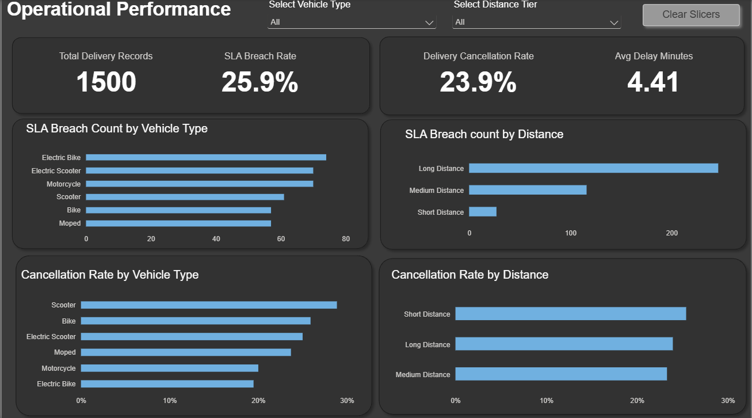

What the dashboard file says about the page in this screenshot:
{"tool":"powerbi","page":{"name":"Operational Performance","canvas":[1280,720],"ordinal":2},"visuals":[{"type":"group","id":"g1","title":"background","box":[8.4,55,1271.6,665.2],"z":0},{"type":"shape","box":[8.4,56.7,628.6,148.4],"z":0,"group":"g1"},{"type":"textbox","box":[8.6,0,402.5,44.2],"z":1000},{"type":"shape","box":[637,195.5,643,240.1],"z":1000,"group":"g1"},{"type":"cardVisual","fields":{"Data":["_Measures.Total Deliveries"]},"box":[59.1,82,238.9,96.5],"z":2000},{"type":"shape","box":[8.4,194.9,626.1,240.1],"z":2000,"group":"g1"},{"type":"shape","box":[635.2,55,640.6,152],"z":3000,"group":"g1"},{"type":"cardVisual","fields":{"Data":["_Measures.Avg Delay Minutes"]},"box":[978.4,76,270.2,109.8],"z":3000},{"type":"cardVisual","fields":{"Data":["_Measures.SLA Breach Rate"]},"box":[349.9,82,183.4,96.5],"z":4000},{"type":"shape","box":[634.5,433.2,645.4,284.7],"z":4000,"group":"g1"},{"type":"cardVisual","fields":{"Data":["_Measures.Delivery Cancellation Rate"]},"box":[685.3,82,258,96.6],"z":5000},{"type":"shape","box":[14.4,428.3,626.1,292],"z":5000,"group":"g1"},{"type":"clusteredBarChart","title":"SLA Breach Count by Vehicle Type","fields":{"Category":["deliveries_fact.vehicle_type"],"Y":["_Measures.Breached Deliveries"]},"box":[25.8,195.1,584.1,240.5],"z":6000},{"type":"clusteredBarChart","title":"SLA Breach count by Distance ","fields":{"Category":["deliveries_fact.distance_tier"],"Y":["_Measures.Breached Deliveries"]},"box":[672,205.1,583.9,220.8],"z":7000},{"type":"clusteredBarChart","title":"Cancellation Rate by Vehicle Type","fields":{"Category":["deliveries_fact.vehicle_type"],"Y":["_Measures.Deliveries Cancellation Rate"]},"box":[16.9,444,600.8,267.8],"z":8000},{"type":"clusteredBarChart","title":"Cancellation Rate by Distance","fields":{"Category":["deliveries_fact.distance_tier"],"Y":["_Measures.Delivery Cancellation Rate"]},"box":[649.1,444,618.9,267.8],"z":9000},{"type":"slicer","fields":{"Values":["deliveries_fact.vehicle_type"]},"box":[447.6,0,299.6,56.3],"z":10000},{"type":"slicer","fields":{"Values":["deliveries_fact.distance_tier"]},"box":[763.7,0,299.6,56.3],"z":11000},{"type":"actionButton","box":[1084.6,0,183.4,55.5],"z":12000}]}

Visuals, with their boxes in screenshot pixels (x1, y1, x2, y2), scaled from the page's 1280x720 canvas onto the 752x418 screenshot:
"background" group: (5, 32, 751, 417)
shape: (5, 33, 374, 119)
textbox: (5, 0, 242, 26)
shape: (374, 113, 751, 253)
cardVisual - _Measures.Total Deliveries: (35, 48, 175, 104)
shape: (5, 113, 373, 253)
shape: (373, 32, 750, 120)
cardVisual - _Measures.Avg Delay Minutes: (575, 44, 734, 108)
cardVisual - _Measures.SLA Breach Rate: (206, 48, 313, 104)
shape: (373, 251, 751, 417)
cardVisual - _Measures.Delivery Cancellation Rate: (403, 48, 554, 104)
shape: (8, 249, 376, 417)
"SLA Breach Count by Vehicle Type" clusteredBarChart: (15, 113, 358, 253)
"SLA Breach count by Distance " clusteredBarChart: (395, 119, 738, 247)
"Cancellation Rate by Vehicle Type" clusteredBarChart: (10, 258, 363, 413)
"Cancellation Rate by Distance" clusteredBarChart: (381, 258, 745, 413)
slicer - deliveries_fact.vehicle_type: (263, 0, 439, 33)
slicer - deliveries_fact.distance_tier: (449, 0, 625, 33)
actionButton: (637, 0, 745, 32)
